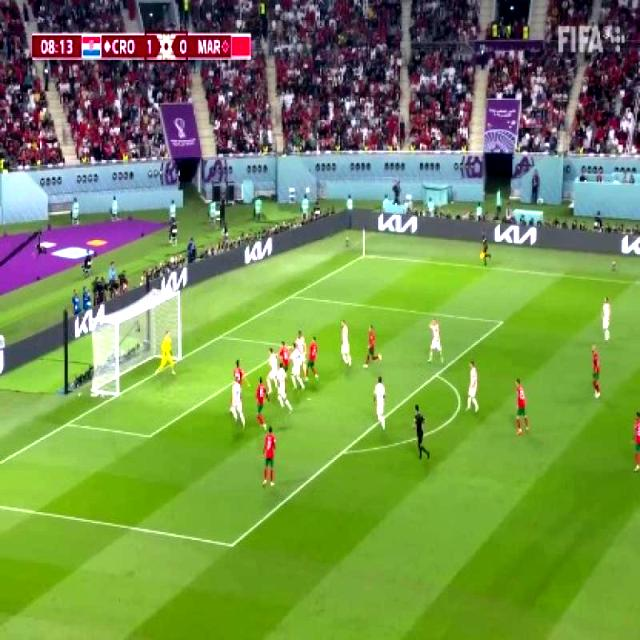bigarea_bottom_inner: (222, 531, 240, 559)
bigarea_top_inner: (495, 314, 505, 329)
bigarea_top_outter: (286, 288, 296, 302)
bottom_arc_area_intersection: (337, 442, 349, 460)
corner: (360, 251, 370, 259)
smallarea_bottom_inner: (142, 424, 156, 446)
smallarea_bottom_outter: (61, 414, 74, 431)
smallarea_top_outter: (216, 328, 226, 342)
top_arc_area_intersection: (430, 368, 440, 382)
